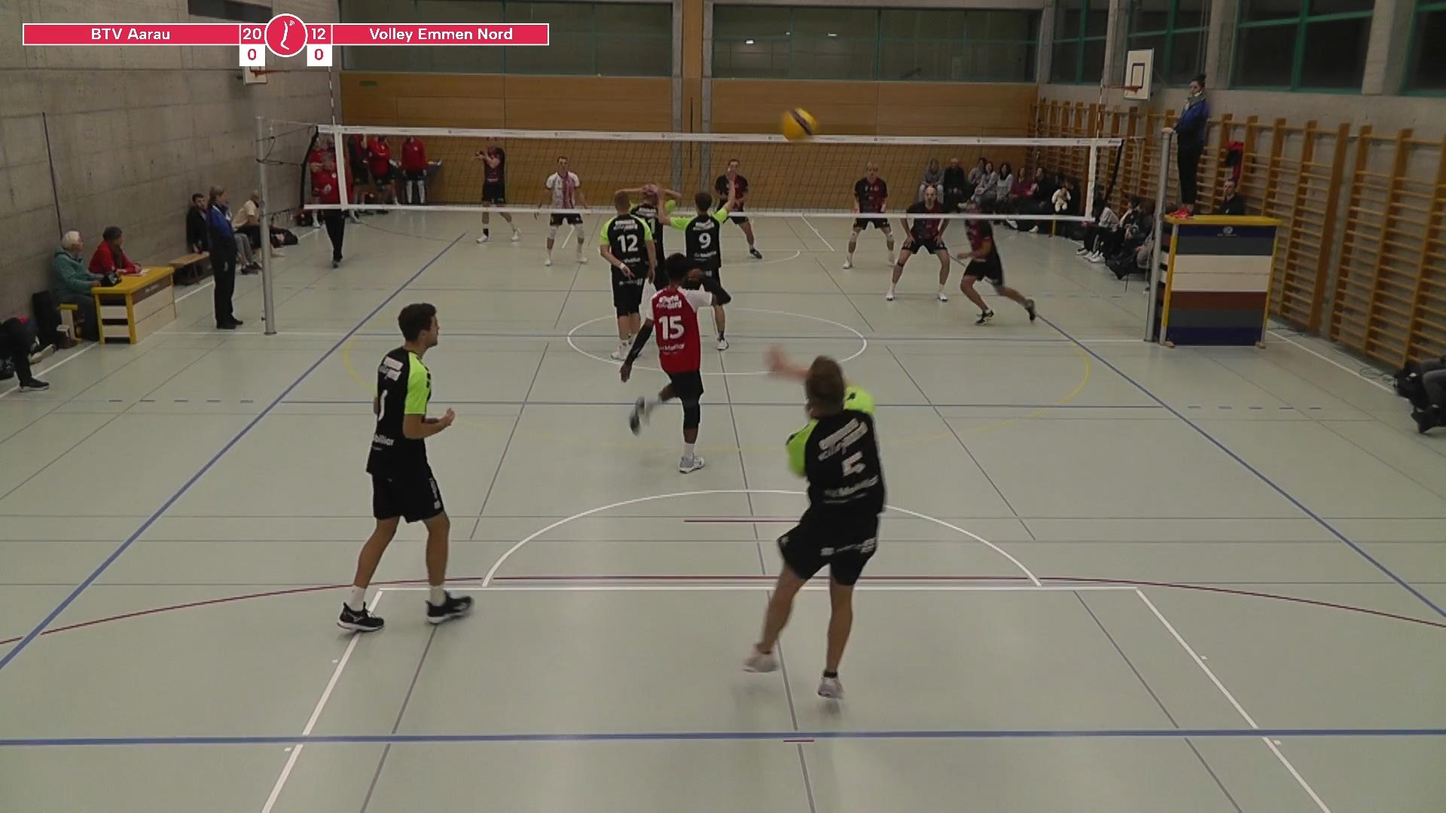Player: (337, 303, 472, 632), (620, 254, 730, 473), (599, 191, 657, 360), (956, 218, 1036, 324), (886, 186, 949, 301), (669, 191, 736, 282), (843, 163, 894, 269), (543, 156, 587, 265), (714, 158, 761, 259), (619, 183, 680, 260), (474, 146, 505, 243)
Serve: (753, 330, 901, 704)
ball: (779, 104, 822, 145)
